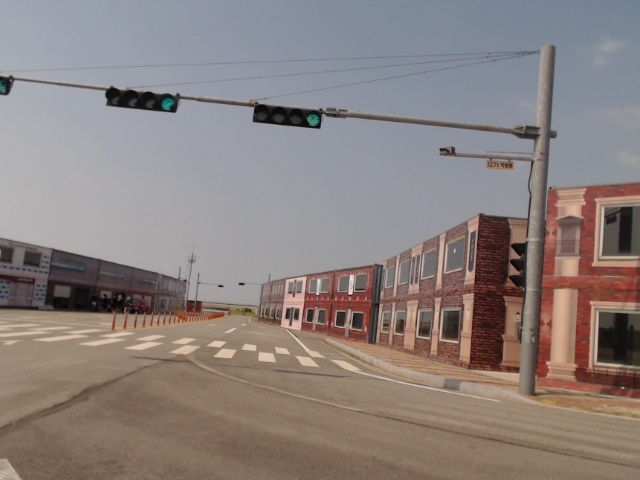straight_green_4: (106, 88, 179, 111), (254, 105, 321, 127)
